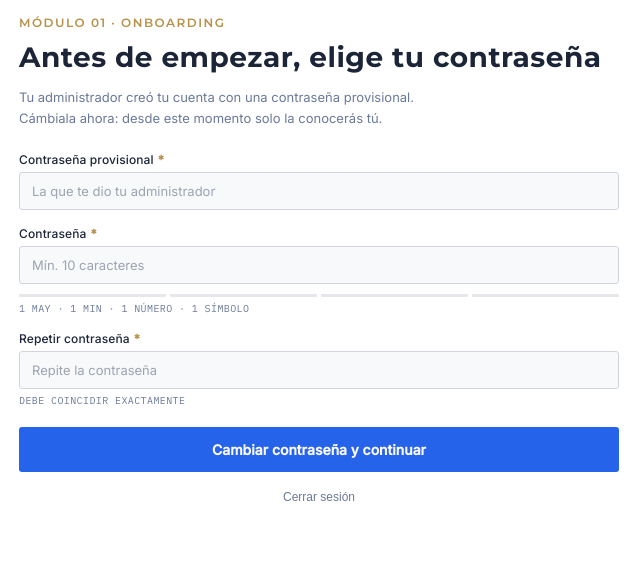
Test: ACT-02 · contraseña provisional (alta por FRU) › una provisional equivocada se dice y no avanza
In the password field labelled "Contraseña provisional *": (319, 191) [19,172,619,210], type "mal"
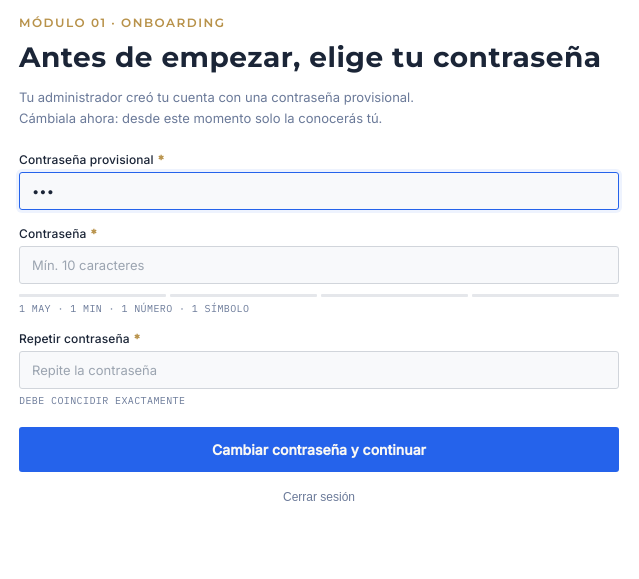
In the password field named "Contraseña*": (319, 265) [19,246,619,284], type "NuevaClave2024!"
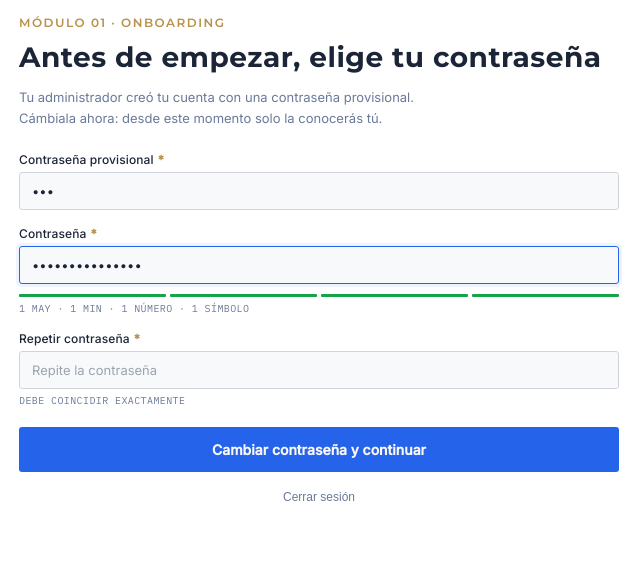
In the password field labelled "Repetir contraseña *": (319, 370) [19,351,619,389], type "NuevaClave2024!"
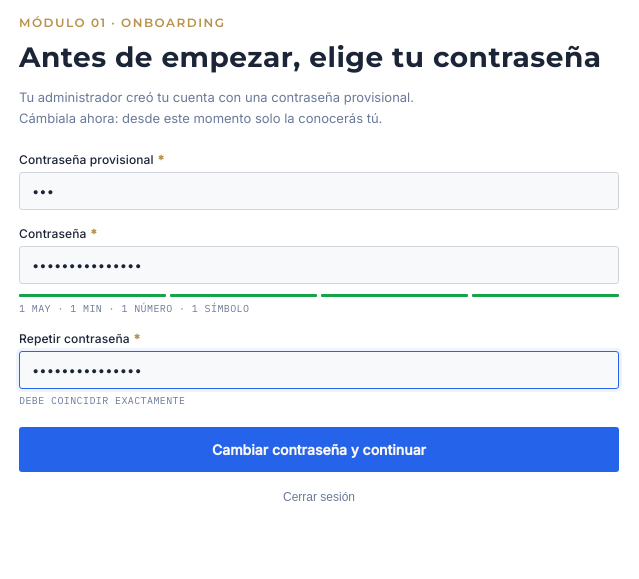
Click the button "Cambiar contraseña y continuar": (319, 449) [19,427,619,472]
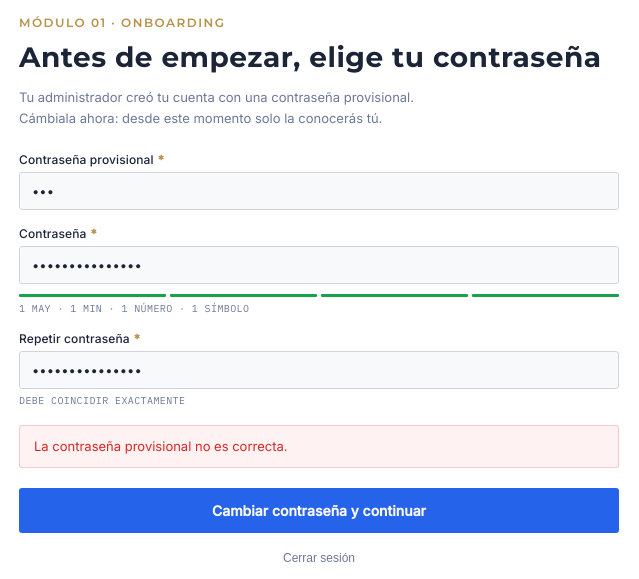
Expected: the heading reads "Antes de empezar, elige tu contraseña", [19,40,602,74]
Result: the message reads "La contraseña provisional no es correcta." at [34,438,288,454]
